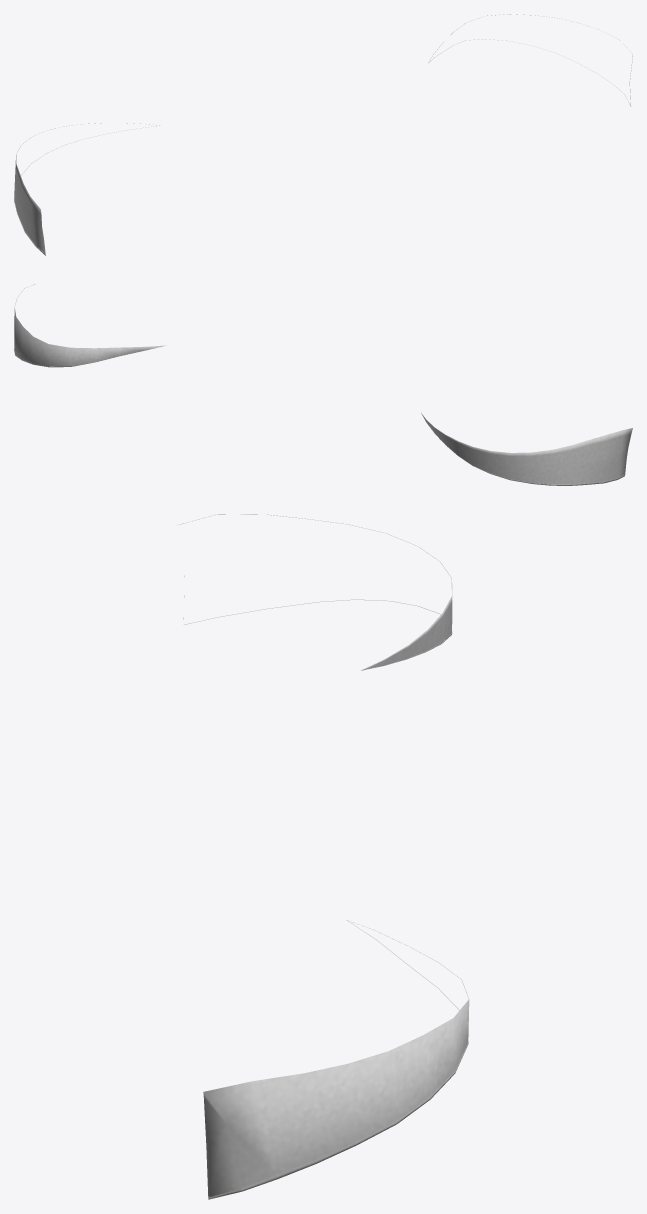
The model's file is COP_Back.glb.
The picture shows the model from 3 angles, top to bottom: view 1: azimuth 30°, elevation 25°; view 2: azimuth 150°, elevation 25°; view 3: azimuth 270°, elevation 25°; orthographic projection. The views are drawn at different scales.
Parts seen in each view (by area): view 1: COP_Back1; view 2: COP_Back1, Rope1; view 3: COP_Back1, Rope1.
Boxes of the visible parts, x1,y1,x2,y2 form: COP_Back1: (14,14,632,255); COP_Back1: (14,284,632,485); Rope1: (14,345,624,484); COP_Back1: (181,514,469,1199); Rope1: (184,599,468,1198).
Bounding box in the file's own units: 0.8256 × 0.0826 × 0.176.
2 materials, 2 textured.
